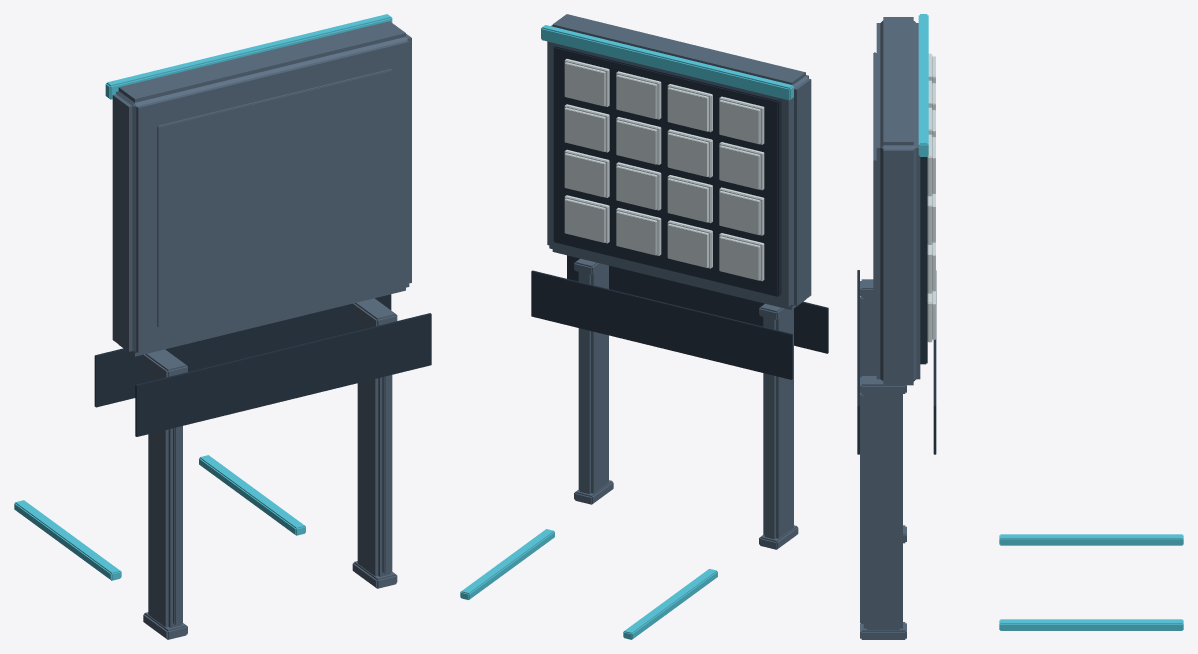
3 views of the same model, side by side, from view 1: azimuth 30°, elevation 25°; view 2: azimuth 150°, elevation 25°; view 3: azimuth 270°, elevation 25° (orthographic). The views are drawn at different scales.
Visible parts, largest first — view 1: ConsoleHousing, Audience progress backing, Right leg, Left leg, Front progress backing, AwardHeader, Left stance rail, Right stance rail; view 2: RecessedDisplay, ConsoleHousing, Front progress backing, Left leg, Right leg, Audience progress backing, AwardHeader, Memory 0, Memory 1, Memory 4, Memory 8, Memory 11 (+13 smaller); view 3: ConsoleHousing, Right leg, Left stance rail, Right stance rail, RecessedDisplay, AwardHeader, Left leg, Audience progress backing, Front progress backing, Memory 3.
Part boxes in pixels (<box>): ConsoleHousing: <box>112,21,411,356</box>; Audience progress backing: <box>135,313,431,436</box>; Right leg: <box>352,298,397,588</box>; Left leg: <box>143,349,187,639</box>; Front progress backing: <box>94,294,391,407</box>; AwardHeader: <box>105,14,392,99</box>; Left stance rail: <box>14,500,121,580</box>; Right stance rail: <box>199,455,305,535</box>; RecessedDisplay: <box>553,44,781,296</box>; ConsoleHousing: <box>547,14,811,309</box>; Front progress backing: <box>531,270,792,379</box>; Left leg: <box>759,303,798,549</box>; Right leg: <box>574,258,613,504</box>; Audience progress backing: <box>567,255,828,353</box>; AwardHeader: <box>541,25,793,100</box>; Memory 0: <box>719,96,764,144</box>; Memory 1: <box>667,84,712,132</box>; Memory 4: <box>719,142,764,190</box>; Memory 8: <box>719,187,764,235</box>; Memory 11: <box>564,149,609,197</box>; ConsoleHousing: <box>873,17,920,385</box>; Right leg: <box>860,376,906,639</box>; Left stance rail: <box>999,534,1183,545</box>; Right stance rail: <box>999,619,1183,630</box>; RecessedDisplay: <box>920,156,927,364</box>; AwardHeader: <box>918,14,928,156</box>; Left leg: <box>860,279,906,543</box>; Audience progress backing: <box>857,270,859,454</box>; Front progress backing: <box>933,270,936,454</box>; Memory 3: <box>927,134,935,196</box>.
Bounding box in the file's own units: 0.96 × 1.67 × 0.973.
